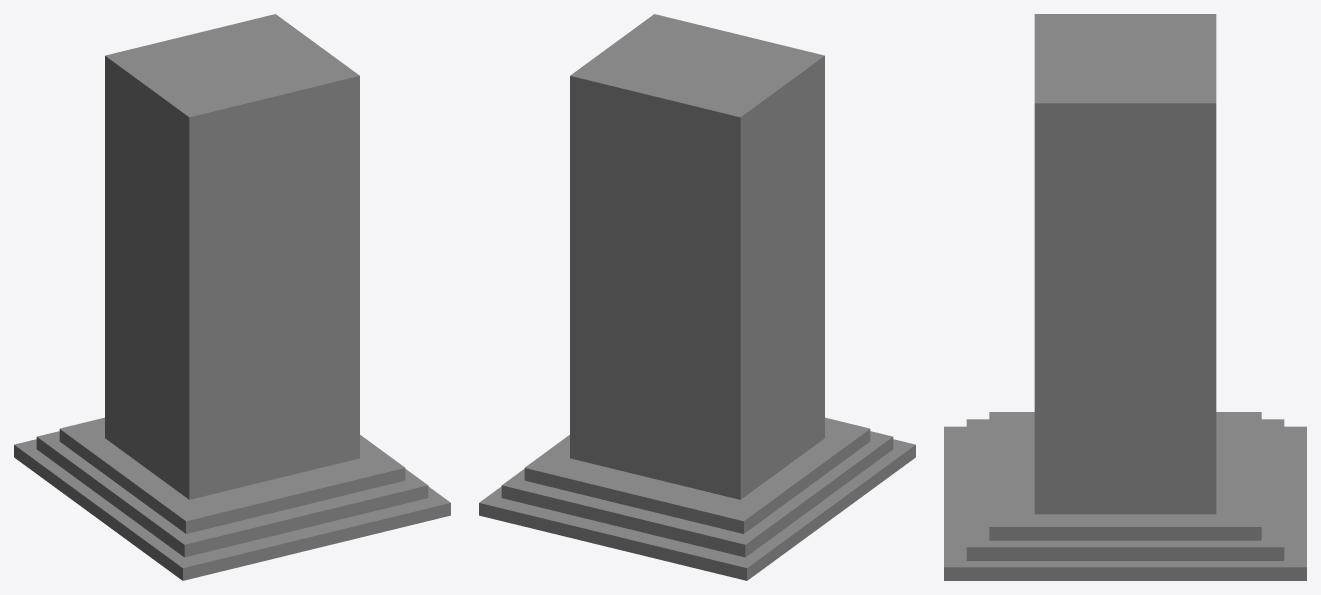
File: DisplayStand.fbx
The picture shows the model from 3 angles, left to right: view 1: azimuth 30°, elevation 25°; view 2: azimuth 150°, elevation 25°; view 3: azimuth 270°, elevation 25°; orthographic projection. The views are drawn at different scales.
Parts seen in each view (by area): view 1: generated; view 2: generated; view 3: generated.
Part boxes in pixels (box(x1,y1,x2,y2)): generated: box(14, 14, 450, 580); generated: box(479, 14, 915, 580); generated: box(944, 14, 1306, 580).
Bounding box in the file's own units: 22 × 33 × 24.
